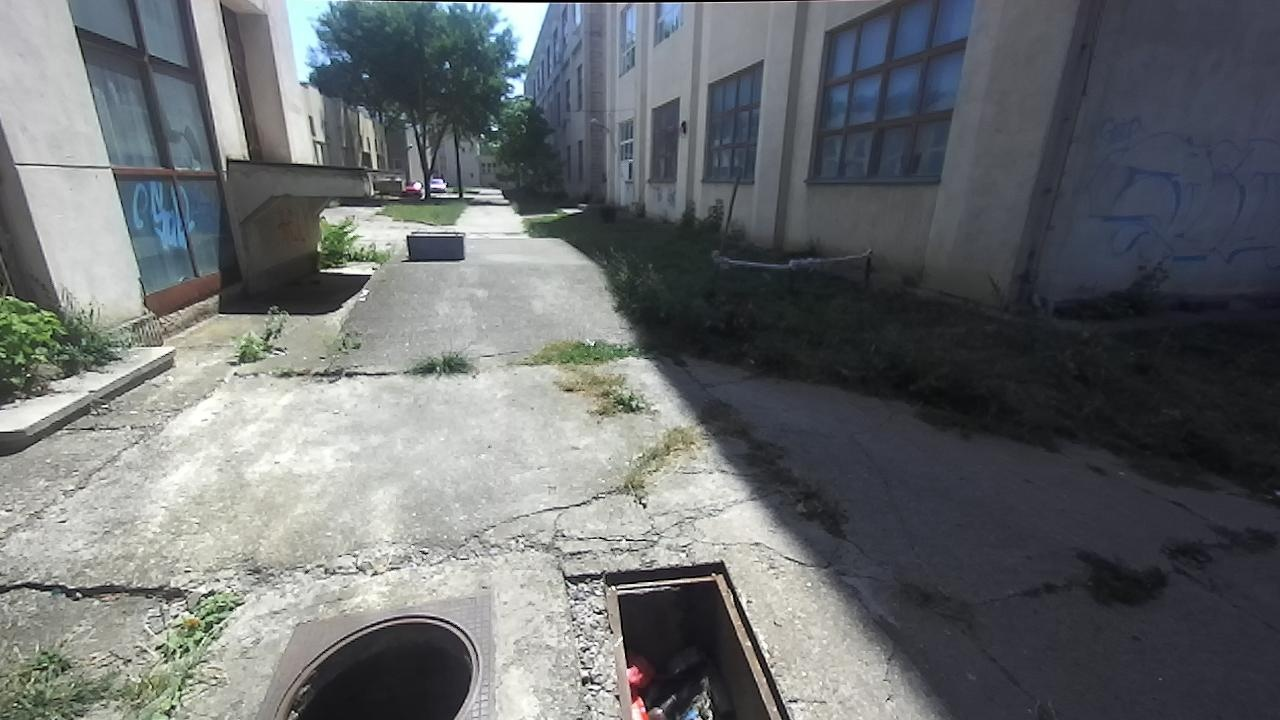drain: (566, 558, 779, 720), (274, 613, 478, 718)
